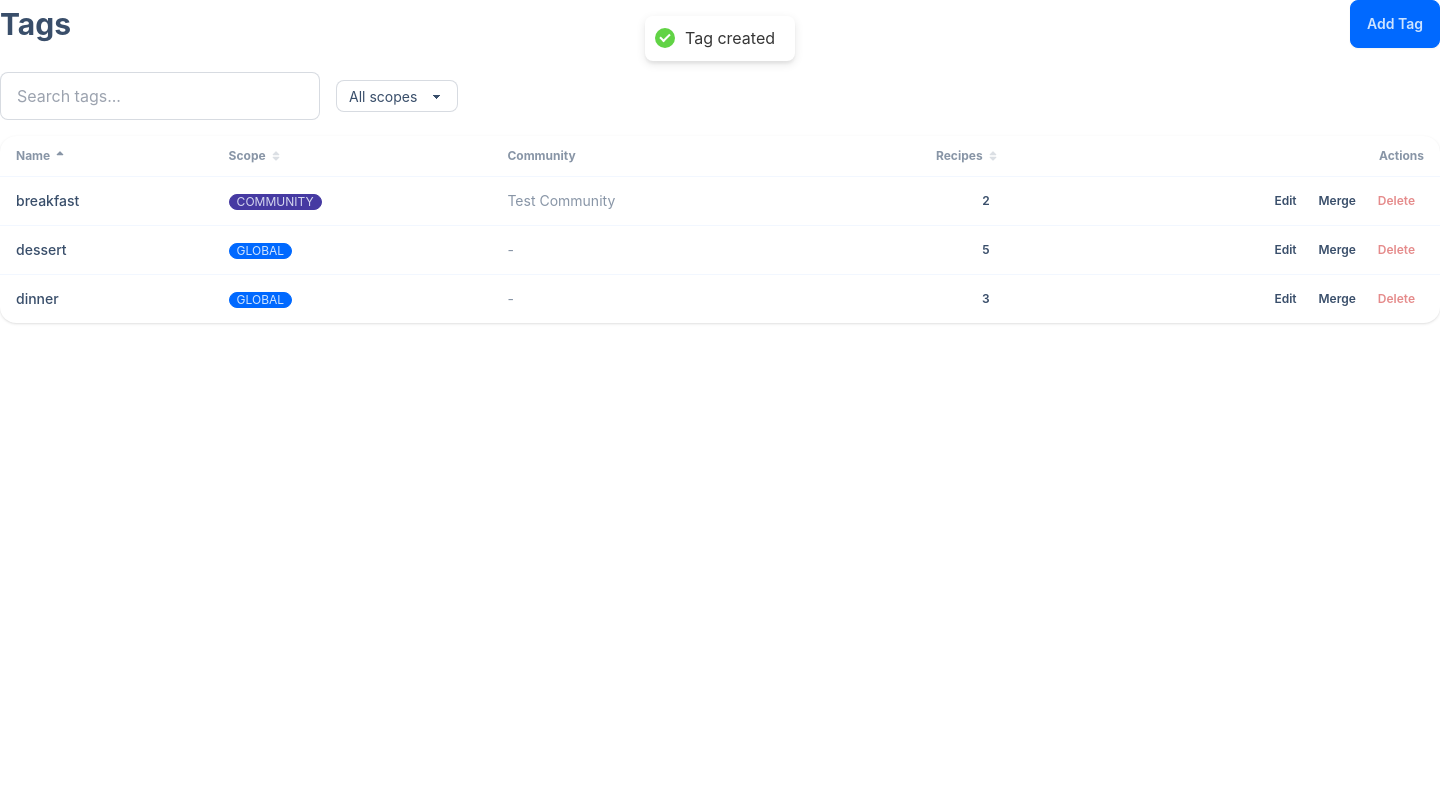
Test: AdminTagsPage › should delete a tag after confirmation
The width and height of the screenshot is (1440, 810).
Check: the text "dessert" is shown, box [0, 226, 213, 274]
Click the button "Delete" in the row of "breakfast" at {"x": 1396, "y": 201}, box [1369, 189, 1424, 213]
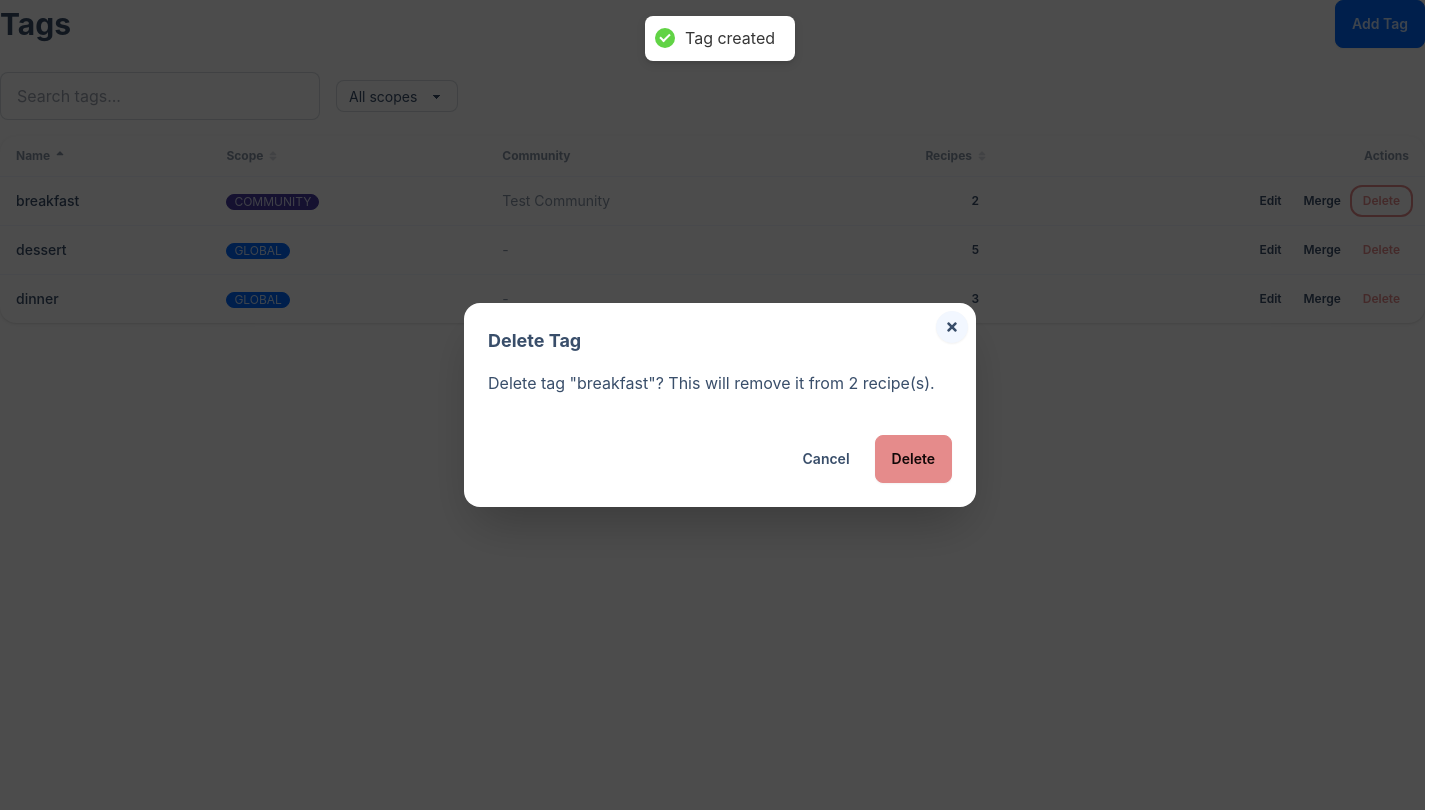
Check: the text "Delete tag" is shown, box [488, 373, 935, 393]
# The last "Delete" button is the one in the confirm dialog
Click the button "Delete" at {"x": 913, "y": 459}, box [875, 435, 952, 483]
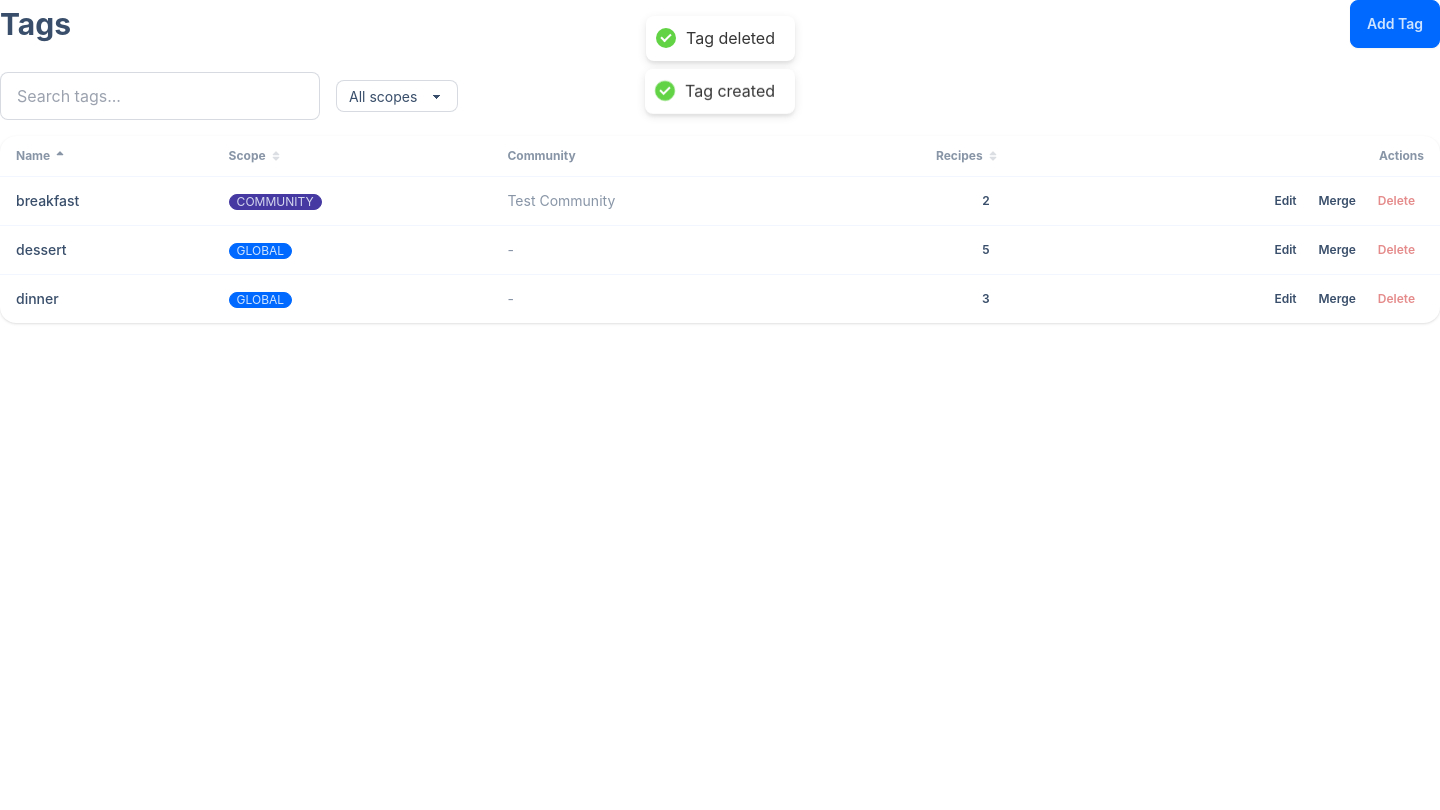
Check: the text "Tag deleted" is shown, box [686, 28, 774, 49]
